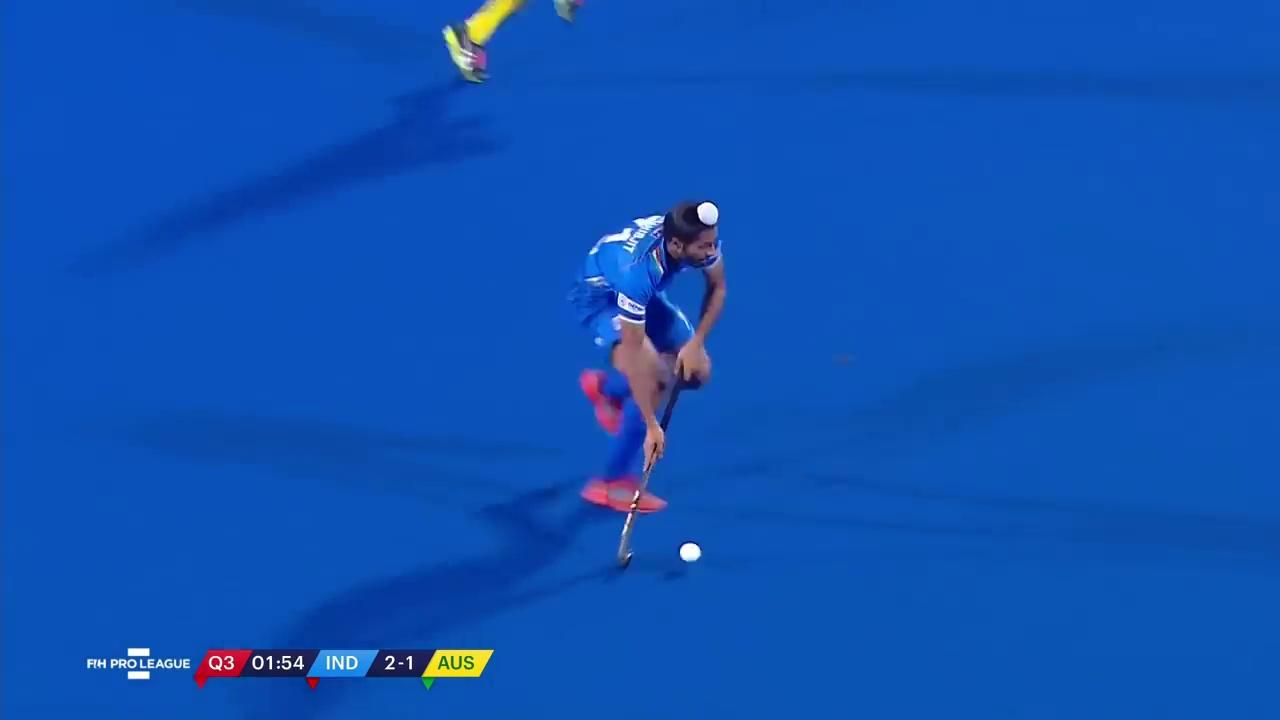ball: (665, 534, 718, 574)
